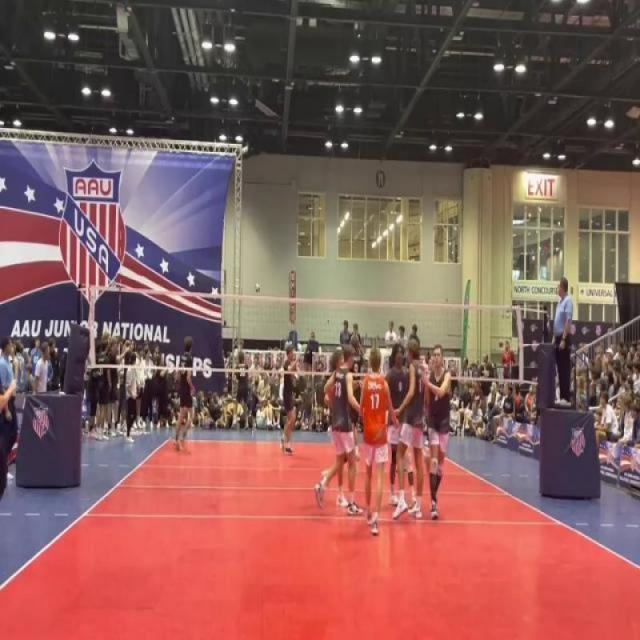volleyball: (256, 284, 261, 296)
